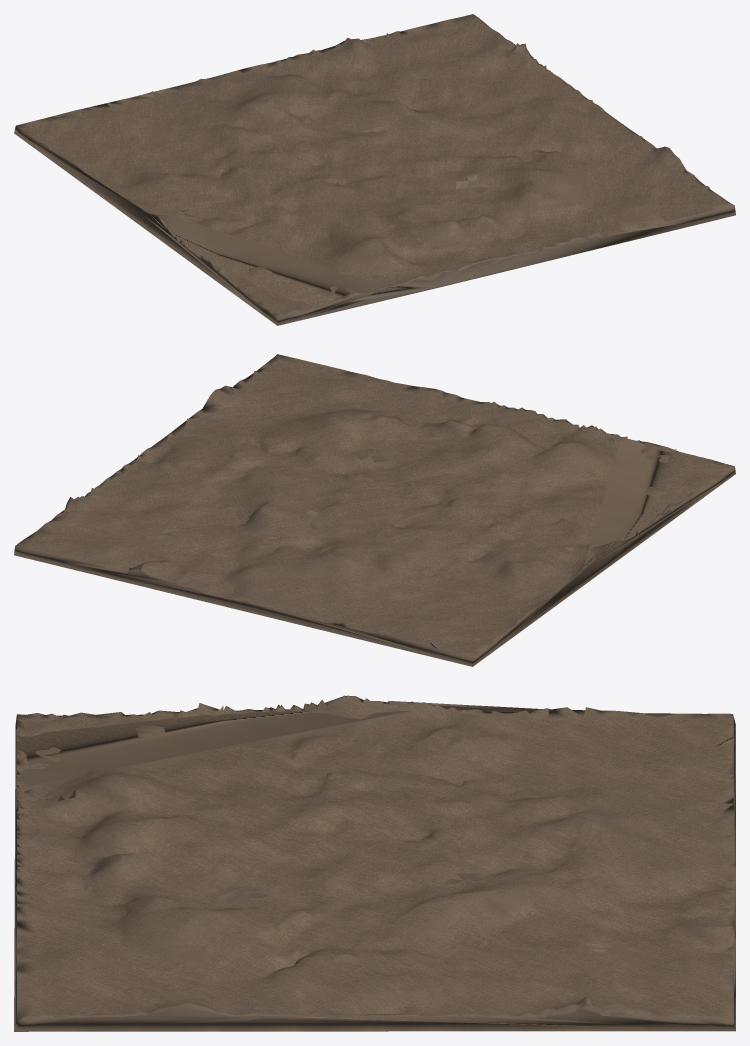
Rendered from dirt.glb.
3 views of the same model, one above another, from view 1: azimuth 30°, elevation 25°; view 2: azimuth 150°, elevation 25°; view 3: azimuth 270°, elevation 25° (orthographic). The views are drawn at different scales.
Size of the model in its own units: 0.9585 by 0.0537 by 0.9556.
Materials: 1 (1 with a texture image).
